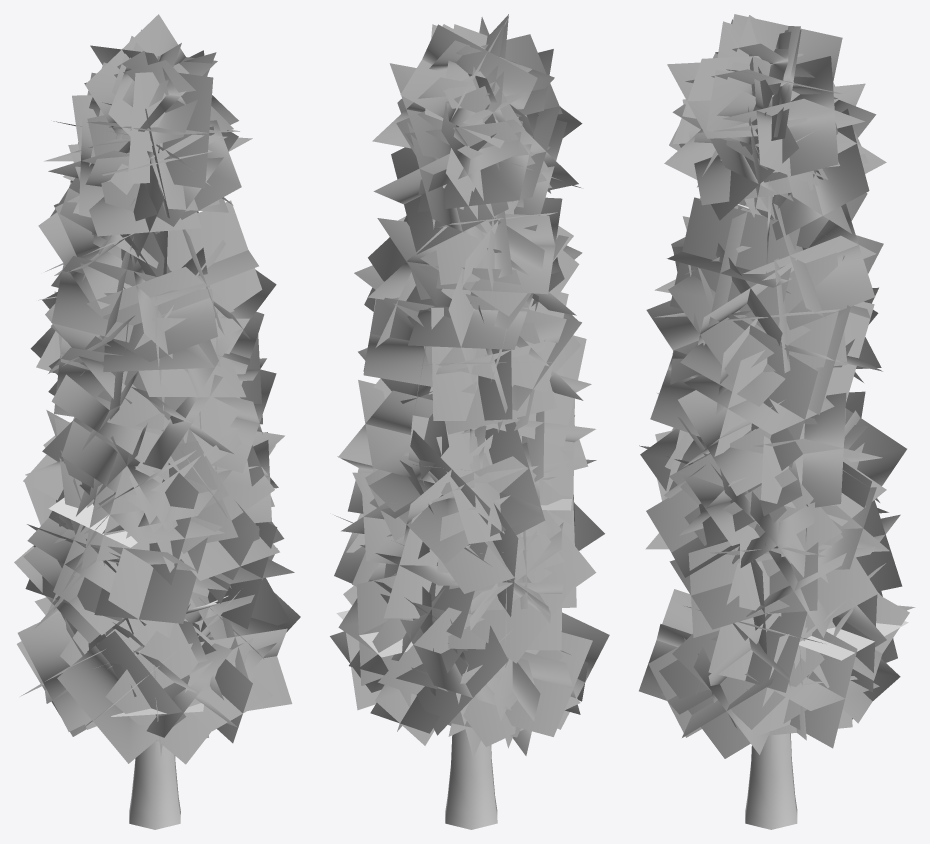
Rendered from STColumnar1.glb.
The picture shows the model from 3 angles, left to right: view 1: azimuth 30°, elevation 25°; view 2: azimuth 150°, elevation 25°; view 3: azimuth 270°, elevation 25°; orthographic projection.
Parts seen in each view (by area): view 1: VertTree1Leaves; view 2: VertTree1Leaves; view 3: VertTree1Leaves.
Part boxes in pixels (<box>): VertTree1Leaves: <box>14,14,300,829</box>; VertTree1Leaves: <box>330,14,609,829</box>; VertTree1Leaves: <box>639,14,915,829</box>.
Size of the model in its own units: 3.95 by 12.44 by 3.91.
2 materials, 1 textured.
